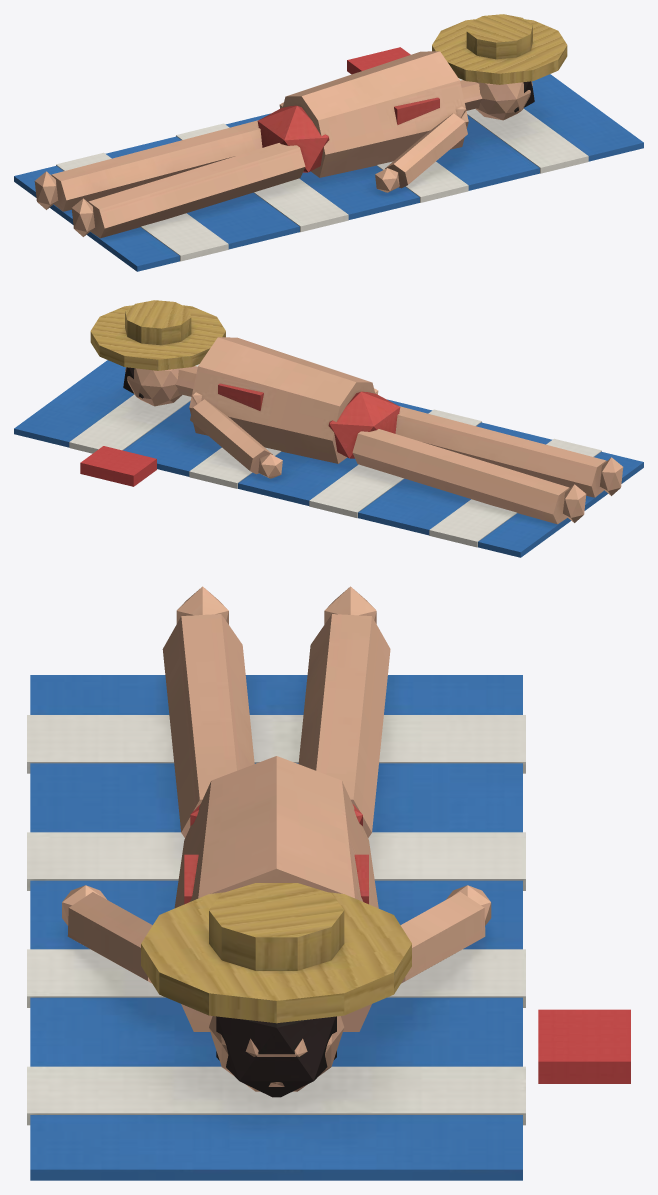
File: solbadare_tex.glb
The picture shows the model from 3 angles, top to bottom: view 1: azimuth 30°, elevation 25°; view 2: azimuth 150°, elevation 25°; view 3: azimuth 270°, elevation 25°; orthographic projection. The views are drawn at different scales.
Visible parts, largest first — view 1: solbadare; view 2: solbadare; view 3: solbadare.
Part boxes in pixels (x1=…): solbadare: x1=14, y1=14, x2=643, y2=271; solbadare: x1=14, y1=300, x2=643, y2=557; solbadare: x1=27, y1=586, x2=630, y2=1180.
Bounding box in the file's own units: 1.98 × 0.39 × 0.98.
Materials: 7 (7 with a texture image).
